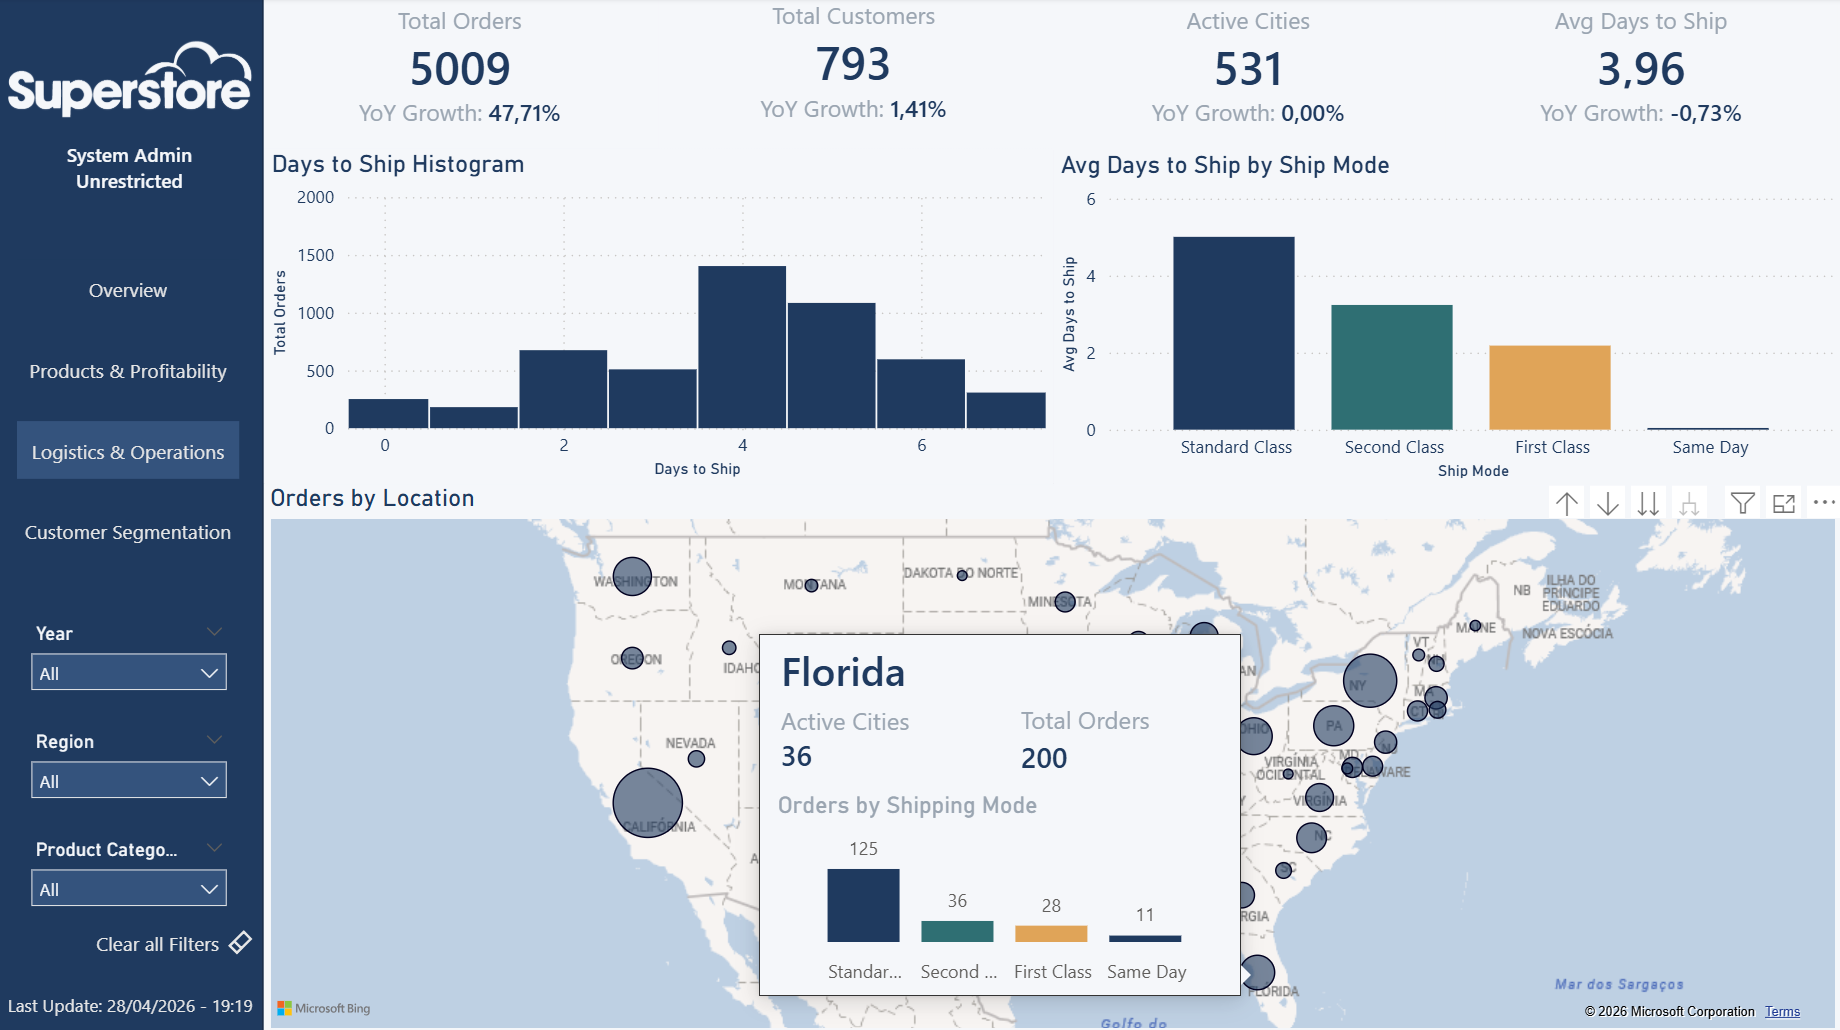

The page's visual inventory and layout, read from the dashboard file:
{"tool":"powerbi","page":{"name":"Logistics & Operations","canvas":[1280,720],"ordinal":2},"visuals":[{"type":"cardVisual","title":"Total Sales","fields":{"Data":["_Measures.Total Customers"]},"box":[458.9,0,272.6,127.8],"z":0},{"type":"cardVisual","fields":{"Data":["_Measures.Total Orders"]},"box":[185,0,273.9,127.8],"z":1000},{"type":"cardVisual","fields":{"Data":["_Measures.Avg Days to Ship"]},"box":[1004.1,0,272.6,127.8],"z":2000},{"type":"map","title":"Orders by Location","fields":{"Category":["dim_geo_ship.Country","dim_geo_ship.State","dim_geo_ship.City Search String"],"Size":["_Measures.Total Orders"]},"box":[185,337.1,1095.4,383.4],"z":3000},{"type":"shape","box":[0,0,185.4,719.6],"z":4000},{"type":"cardVisual","fields":{"Data":["_Measures.Active Cities"]},"box":[731.5,0,272.6,127.8],"z":5000},{"type":"clusteredColumnChart","title":"Days to Ship Histogram","fields":{"Category":["fact_sales.Days to Ship"],"Y":["_Measures.Total Orders"]},"box":[186.2,104.7,546.5,232.5],"z":6000},{"type":"clusteredColumnChart","fields":{"Y":["_Measures.Avg Days to Ship"],"Category":["fact_sales.Ship Mode"]},"box":[732.7,105.9,547.7,232.5],"z":7000},{"type":"slicer","fields":{"Values":["dim_geo_ship.Region"]},"box":[14.6,503.3,155.3,60],"z":8000},{"type":"slicer","fields":{"Values":["dim_shipping_dates.Year"]},"box":[14.6,428.3,155.3,60],"z":9000},{"type":"slicer","fields":{"Values":["dim_products.Category"]},"box":[14.6,578.3,155.3,60],"z":10000},{"type":"image","box":[8.3,11.4,169.4,90.4],"z":11000},{"type":"cardVisual","fields":{"Data":["_Measures.Active User Territory"]},"box":[0,88.4,185,56.1],"z":12000},{"type":"actionButton","box":[65.5,641.4,119.5,28.1],"z":13000},{"type":"pageNavigator","box":[14.6,181.9,154.9,208.9],"z":14000},{"type":"cardVisual","fields":{"Data":["_Measures.Data Vintage"]},"box":[0,675.3,186.1,44.7],"z":15000}]}

Visuals, with their boxes on the page's 1280x720 design canvas (x1, y1, x2, y2). These are canvas units, not pixel positions in the 1840x1030 screenshot, which may show the page scaled, cropped or inside an application window:
"Total Sales" cardVisual: rect(459, 0, 732, 128)
cardVisual - _Measures.Total Orders: rect(185, 0, 459, 128)
cardVisual - _Measures.Avg Days to Ship: rect(1004, 0, 1277, 128)
"Orders by Location" map: rect(185, 337, 1280, 720)
shape: rect(0, 0, 185, 720)
cardVisual - _Measures.Active Cities: rect(732, 0, 1004, 128)
"Days to Ship Histogram" clusteredColumnChart: rect(186, 105, 733, 337)
clusteredColumnChart - _Measures.Avg Days to Ship x fact_sales.Ship Mode: rect(733, 106, 1280, 338)
slicer - dim_geo_ship.Region: rect(15, 503, 170, 563)
slicer - dim_shipping_dates.Year: rect(15, 428, 170, 488)
slicer - dim_products.Category: rect(15, 578, 170, 638)
image: rect(8, 11, 178, 102)
cardVisual - _Measures.Active User Territory: rect(0, 88, 185, 144)
actionButton: rect(66, 641, 185, 670)
pageNavigator: rect(15, 182, 170, 391)
cardVisual - _Measures.Data Vintage: rect(0, 675, 186, 720)
